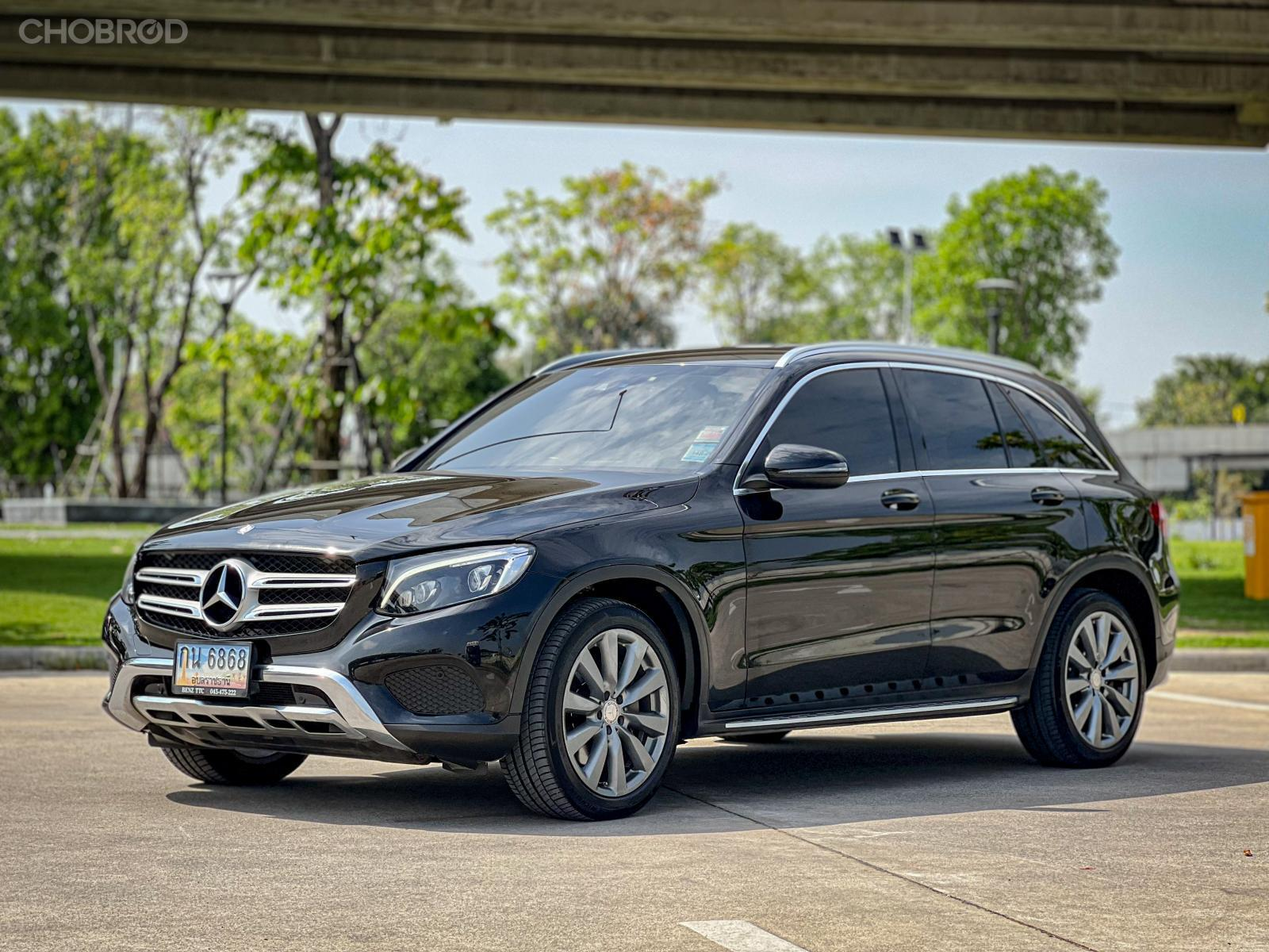license-plate: (172, 636, 257, 695)
